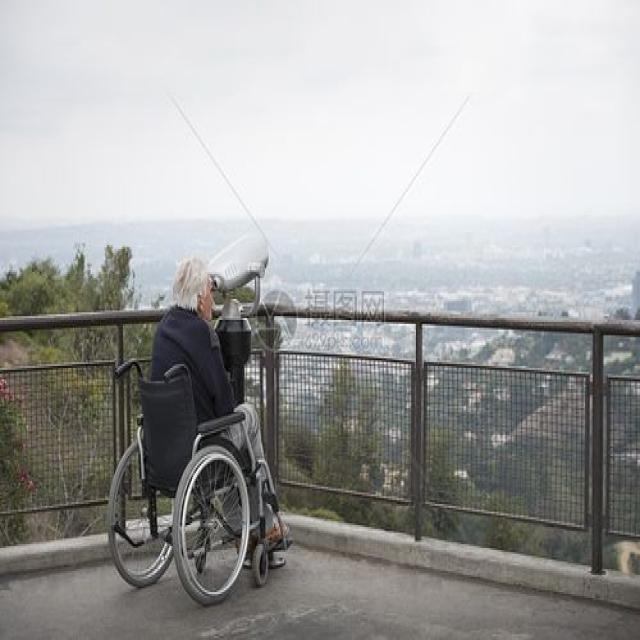wheelchairs: (100, 347, 293, 611)
